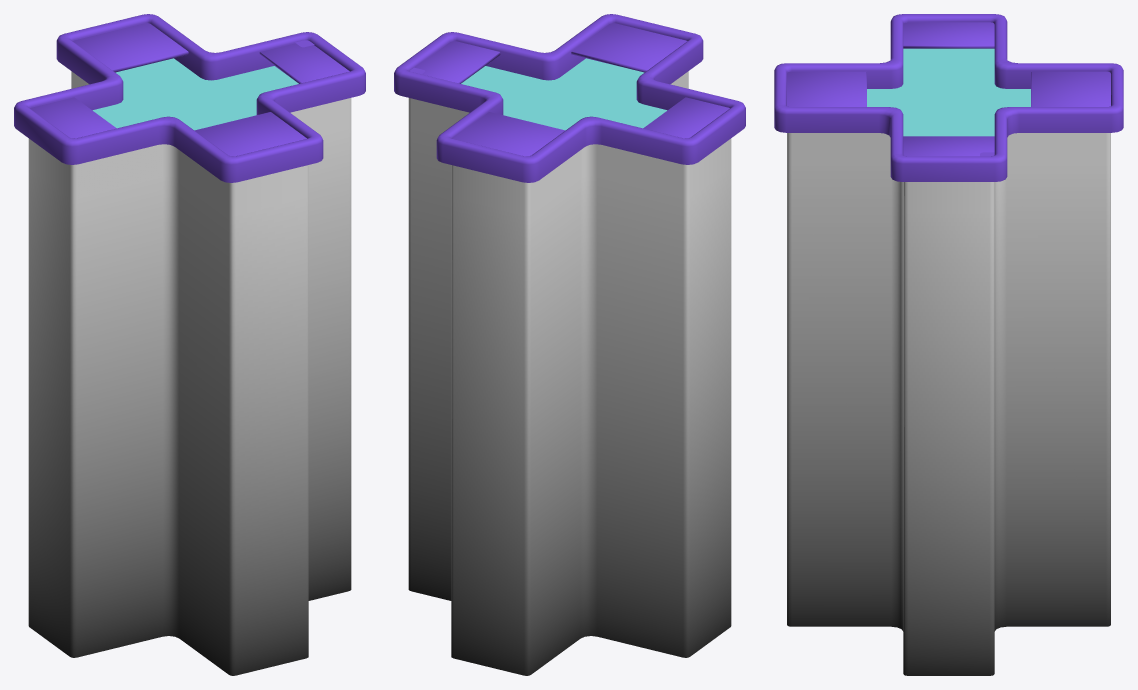
Rendered from Plus_3x3.fbx.
3 views of the same model, side by side, from view 1: azimuth 30°, elevation 25°; view 2: azimuth 150°, elevation 25°; view 3: azimuth 270°, elevation 25° (orthographic).
Visible parts, largest first — view 1: Plus_3x3, Plus_3x3_Cap, Plus_3x3_Stecil; view 2: Plus_3x3, Plus_3x3_Cap, Plus_3x3_Stecil; view 3: Plus_3x3, Plus_3x3_Cap, Plus_3x3_Stecil.
Boxes of the visible parts, box(x1,y1,x2,y2) form: Plus_3x3: box(14, 14, 365, 675); Plus_3x3_Cap: box(30, 23, 349, 156); Plus_3x3_Stecil: box(92, 58, 298, 130); Plus_3x3: box(394, 14, 745, 675); Plus_3x3_Cap: box(415, 23, 729, 156); Plus_3x3_Stecil: box(461, 58, 667, 130); Plus_3x3: box(774, 14, 1123, 675); Plus_3x3_Cap: box(787, 22, 1110, 156); Plus_3x3_Stecil: box(867, 48, 1030, 136).
Size of the model in its own units: 3 by 4.94 by 3.
Materials: 3 (1 with a texture image).
